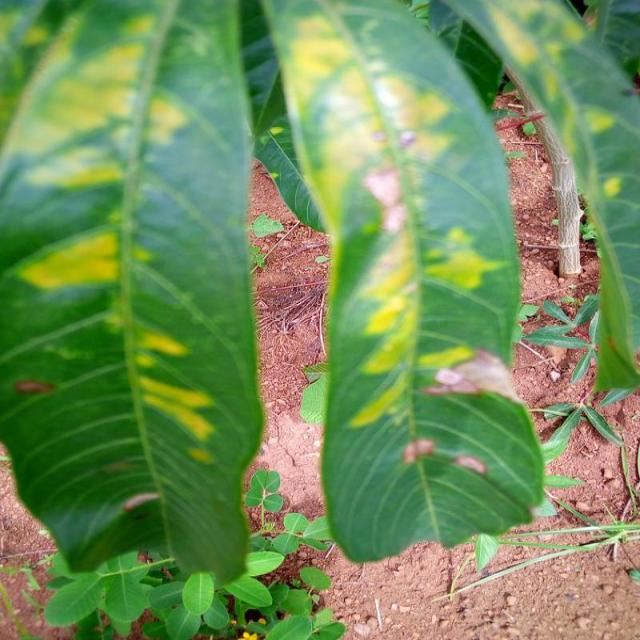cassava leaf: (260, 0, 547, 564), (0, 0, 265, 589)
